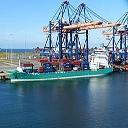Ships: (7, 51, 121, 83)
